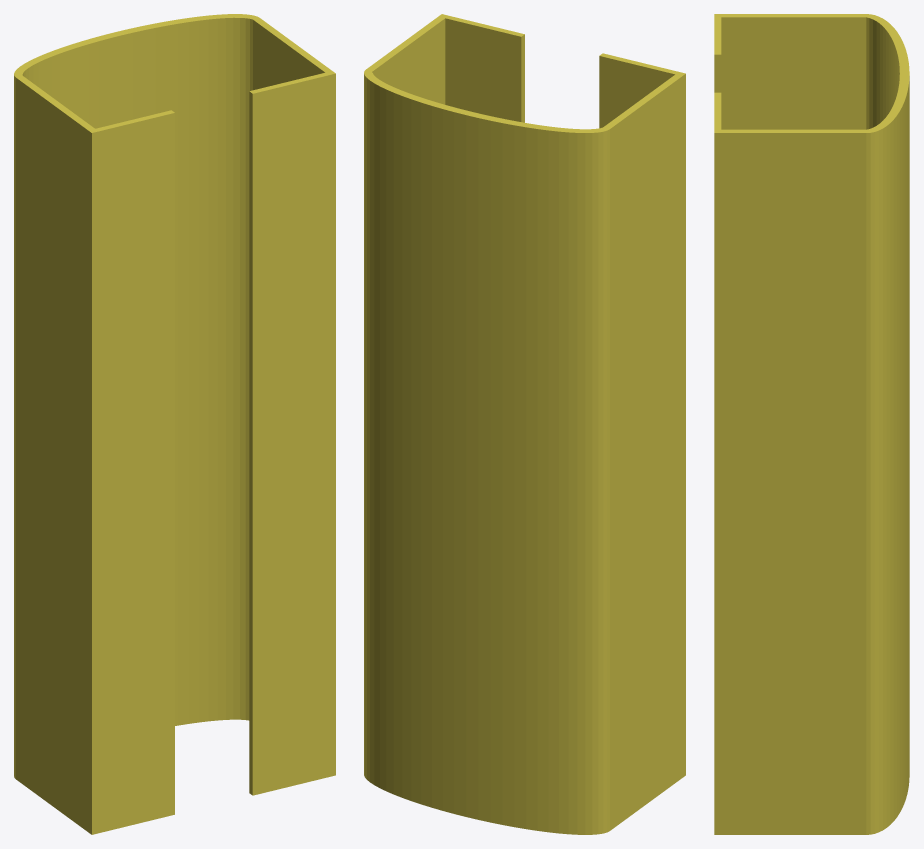
Rendered from Cable raceway.glb.
3 views of the same model, side by side, from view 1: azimuth 30°, elevation 25°; view 2: azimuth 150°, elevation 25°; view 3: azimuth 270°, elevation 25° (orthographic).
Visible parts, largest first — view 1: Mesh_Mesh_head_geo.001_lambert2SG.001; view 2: Mesh_Mesh_head_geo.001_lambert2SG.001; view 3: Mesh_Mesh_head_geo.001_lambert2SG.001.
Part boxes in pixels (x1,y1,x2,y2): Mesh_Mesh_head_geo.001_lambert2SG.001: [14, 14, 335, 834]; Mesh_Mesh_head_geo.001_lambert2SG.001: [364, 14, 685, 834]; Mesh_Mesh_head_geo.001_lambert2SG.001: [714, 14, 909, 834].
Size of the model in its own units: 91 by 250 by 63.
